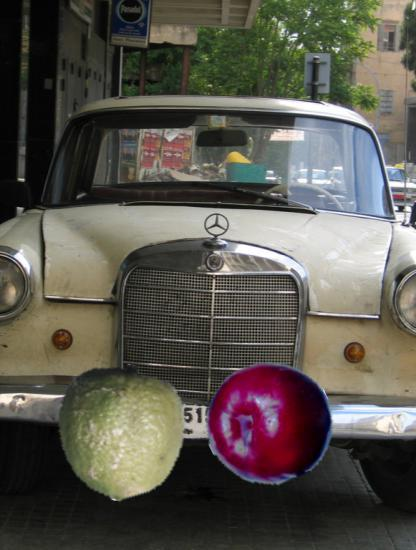Limes: (51, 363, 189, 501)
Plum: (205, 359, 334, 488)
